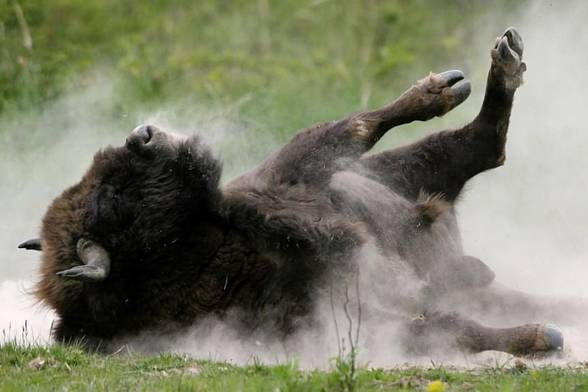zubr: (27, 28, 576, 392)
